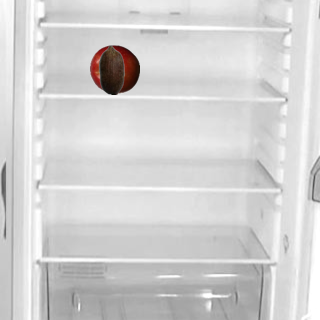Apple Braeburn: (89, 44, 139, 94)
Nut Pecan: (86, 44, 136, 94)
